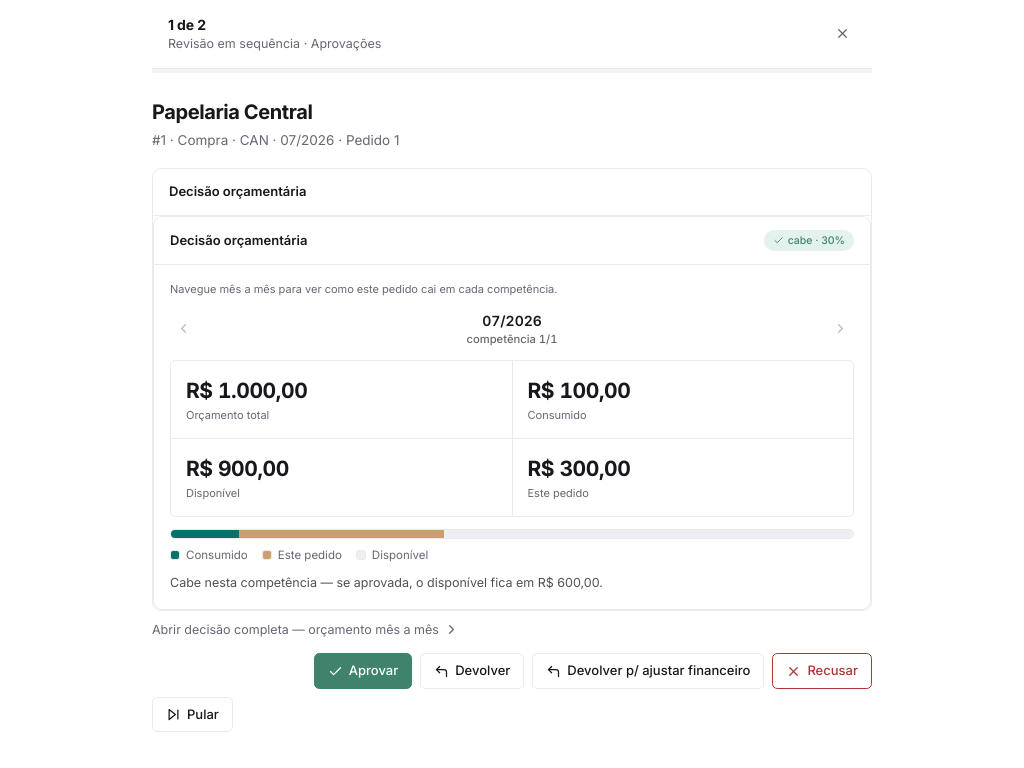
Test case: ApprovalSequence › snapshot congelado: a fila encolher por trás não re-embaralha o N de M
Expected: the text "1 de 2" is shown, [168,16,206,33]
Click the button "Aprovar" at (363, 671), box [314,653,412,689]
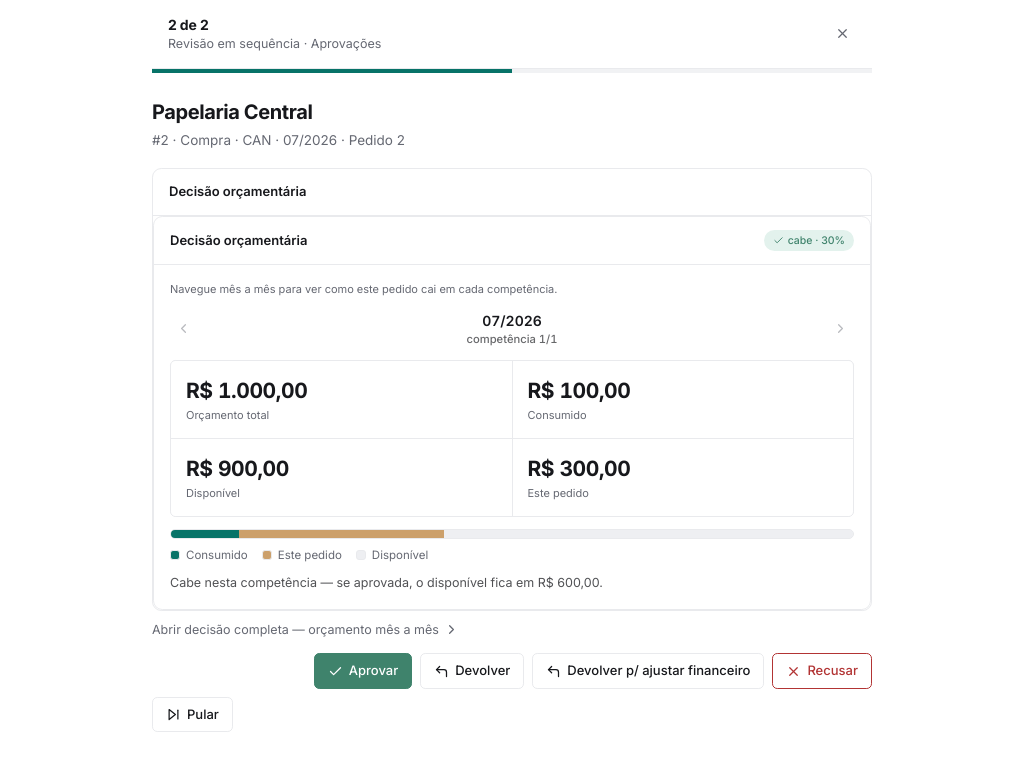
Now the text "2 de 2" is shown, box [168,16,209,33]
